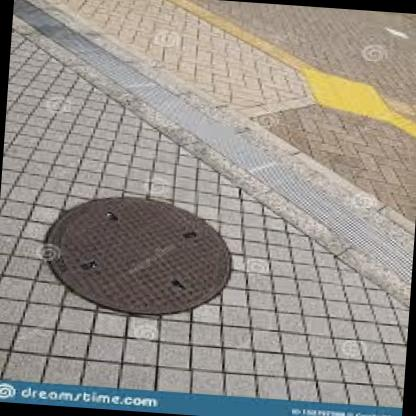manholes: (28, 180, 268, 356)
